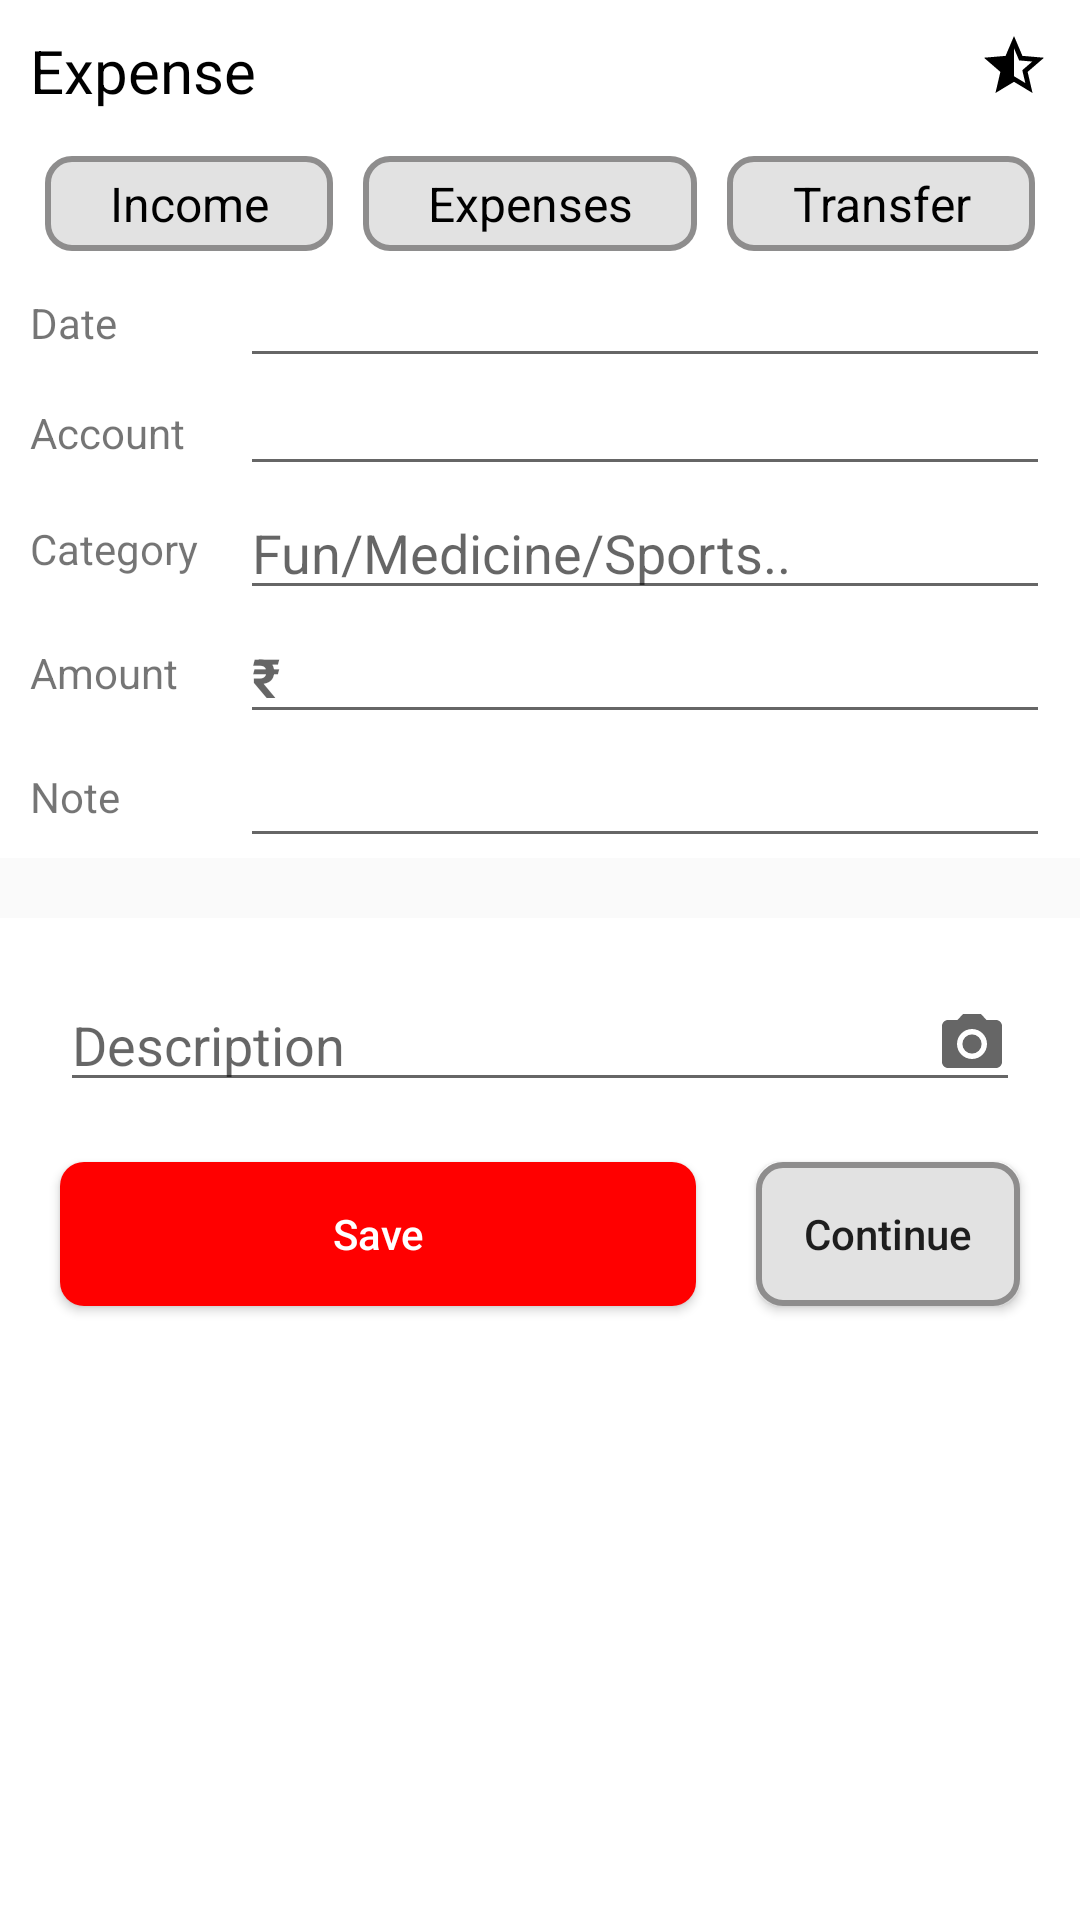

Named icons in this screenshot (1080px×1920px) and their centers, (x=x, y=y):
star: (x=1014, y=64)
